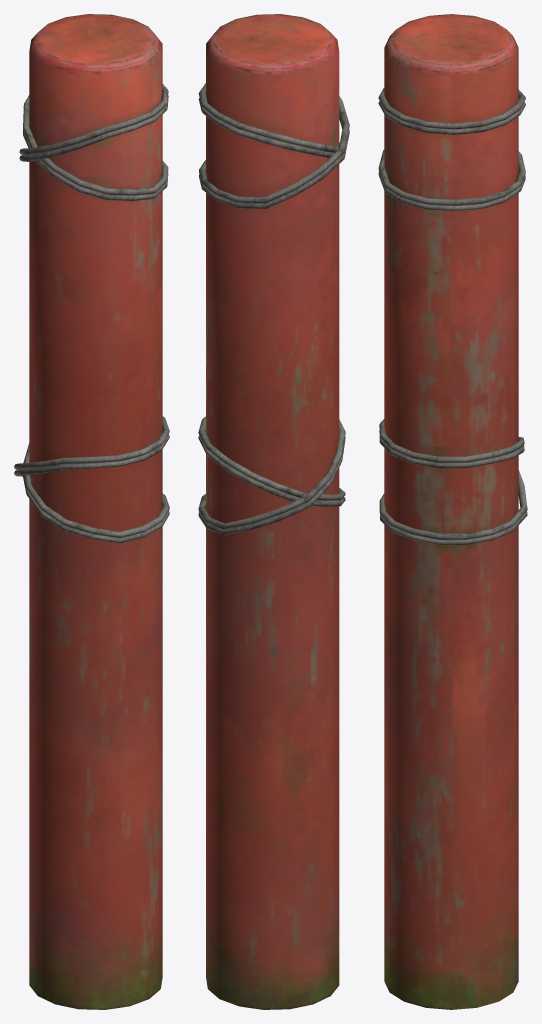
The model's file is Pillar4.fbx.
3 renders of one model, left to right at view 1: azimuth 30°, elevation 25°; view 2: azimuth 150°, elevation 25°; view 3: azimuth 270°, elevation 25°, orthographic.
Parts seen in each view (by area): view 1: SM_a_001_Pillar_04a; view 2: SM_a_001_Pillar_04a; view 3: SM_a_001_Pillar_04a.
Boxes of the visible parts, x1=… form: SM_a_001_Pillar_04a: x1=14, y1=14, x2=169, y2=1009; SM_a_001_Pillar_04a: x1=198, y1=14, x2=349, y2=1009; SM_a_001_Pillar_04a: x1=378, y1=14, x2=527, y2=1009.
Bounding box in the file's own units: 72 × 480 × 68.93.
